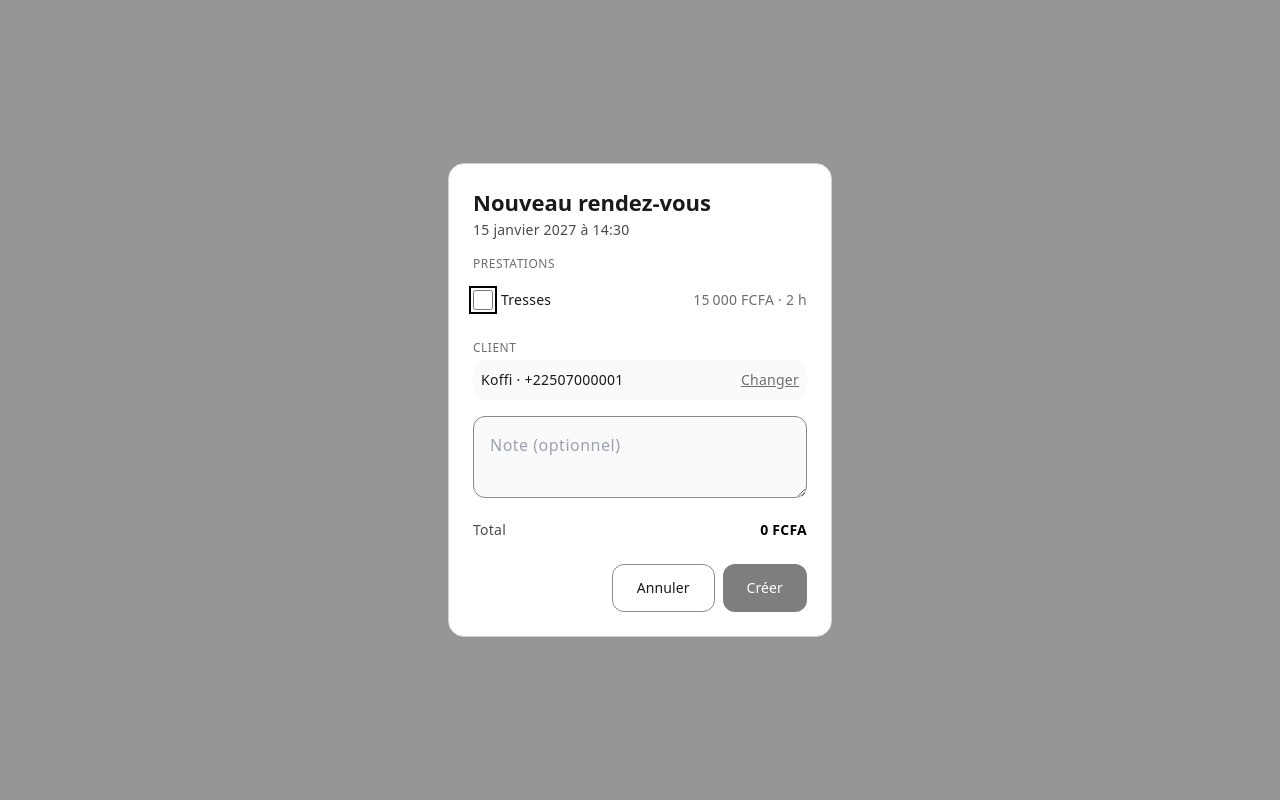
Test case: ManualBookingDialog — a picked client whose stored number is refused › pre-picked (the client card entry): names the card and links to it
The width and height of the screenshot is (1280, 800).
Step 1. Click the checkbox labelled "Tresses 15 000 FCFA · 2 h" → point(483, 300), box [473,290,493,310]
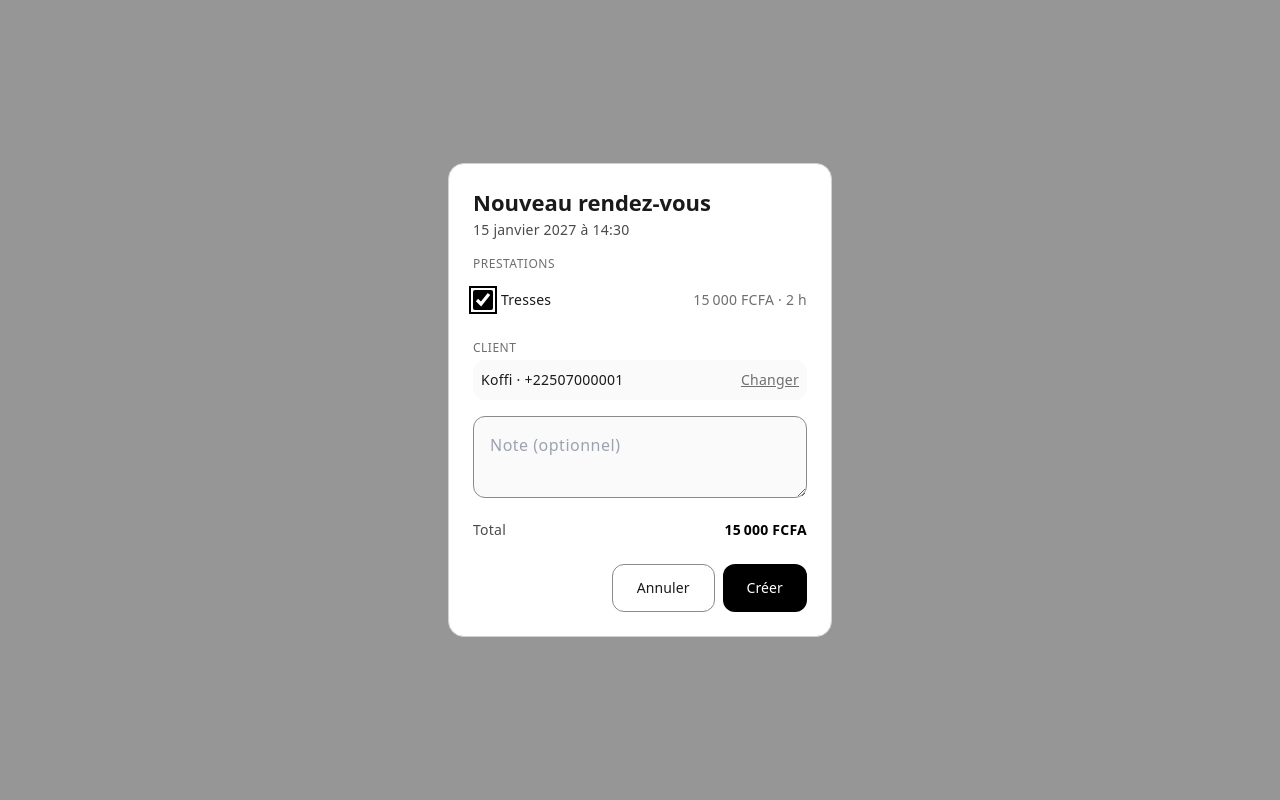
Step 2. Click the button "Créer" → point(765, 588), box [723,564,807,612]
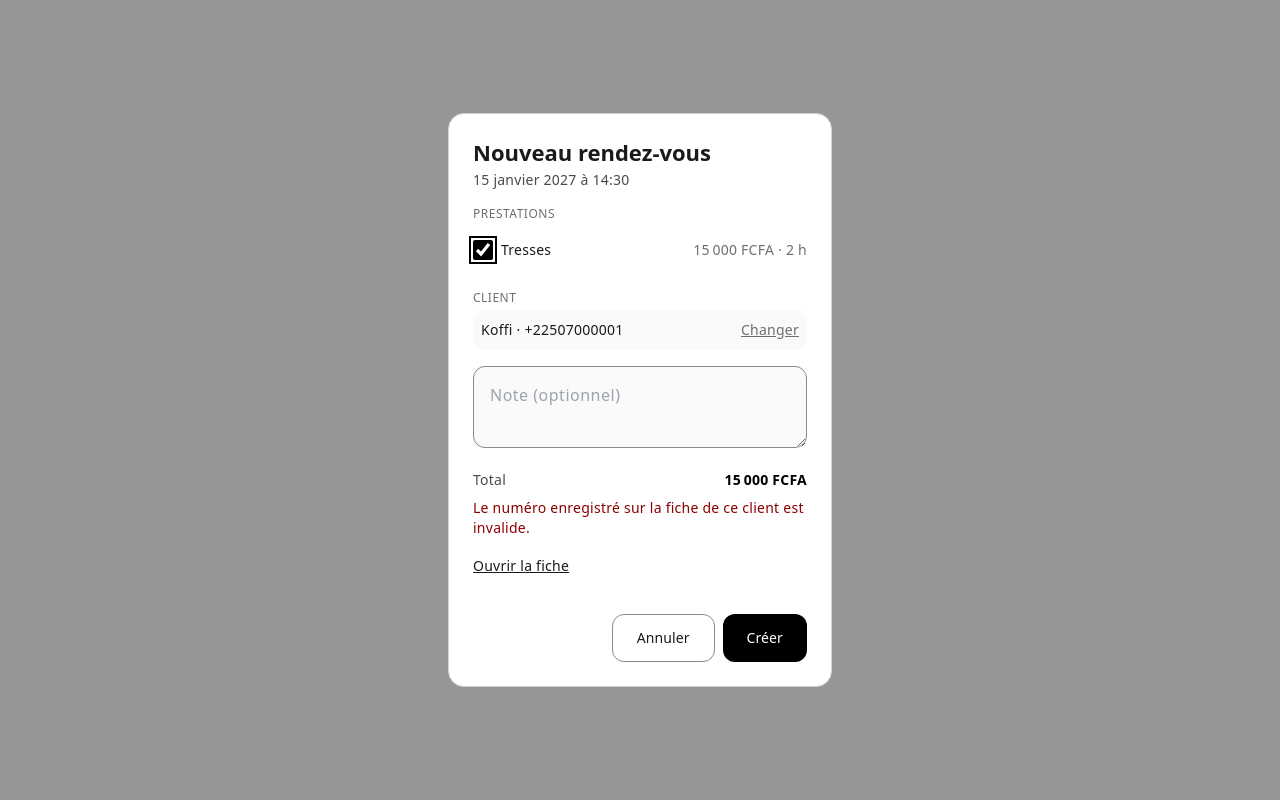
Check: the message reads "Le numéro enregistré sur la fiche de ce client est invalide.", box [473,498,804,537]
